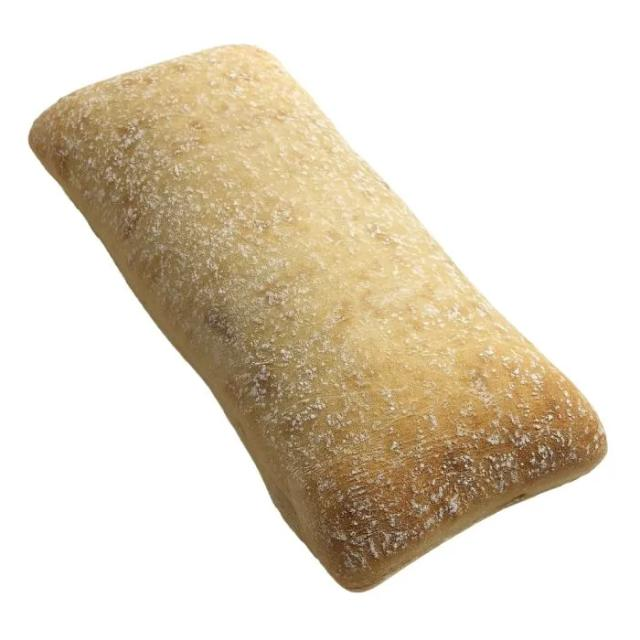Ciabatta: (29, 47, 604, 591)
